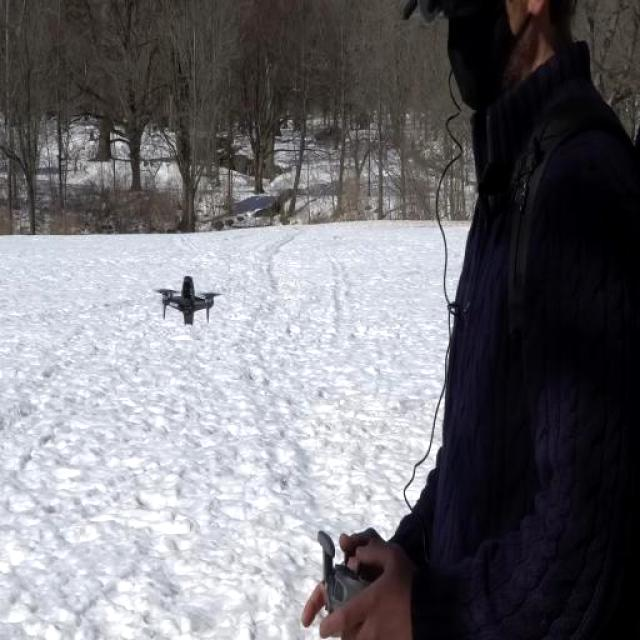bird: (152, 252, 221, 326)
